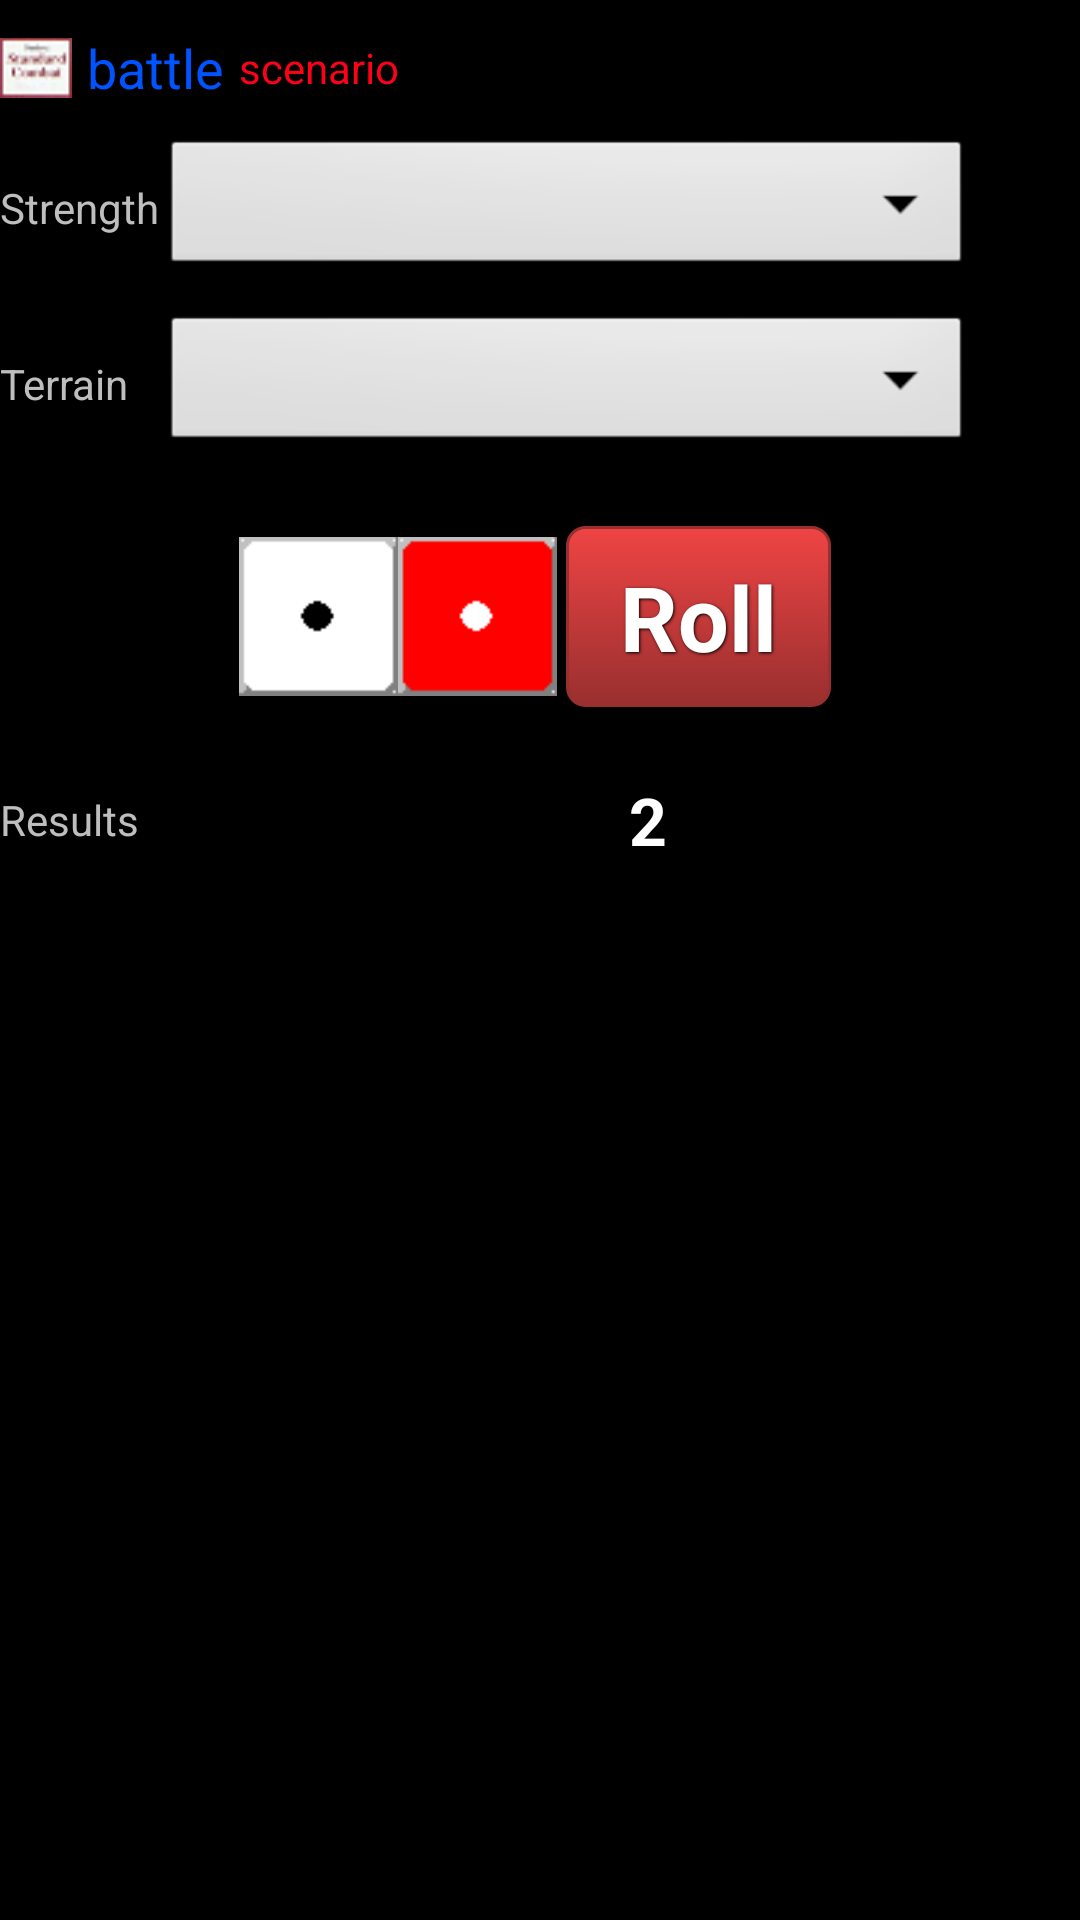

Icon click points for this 1080 x 1920 phone screenshot, format (x=x, y=y):
redw: (x=477, y=616)
whiteb: (x=318, y=616)
